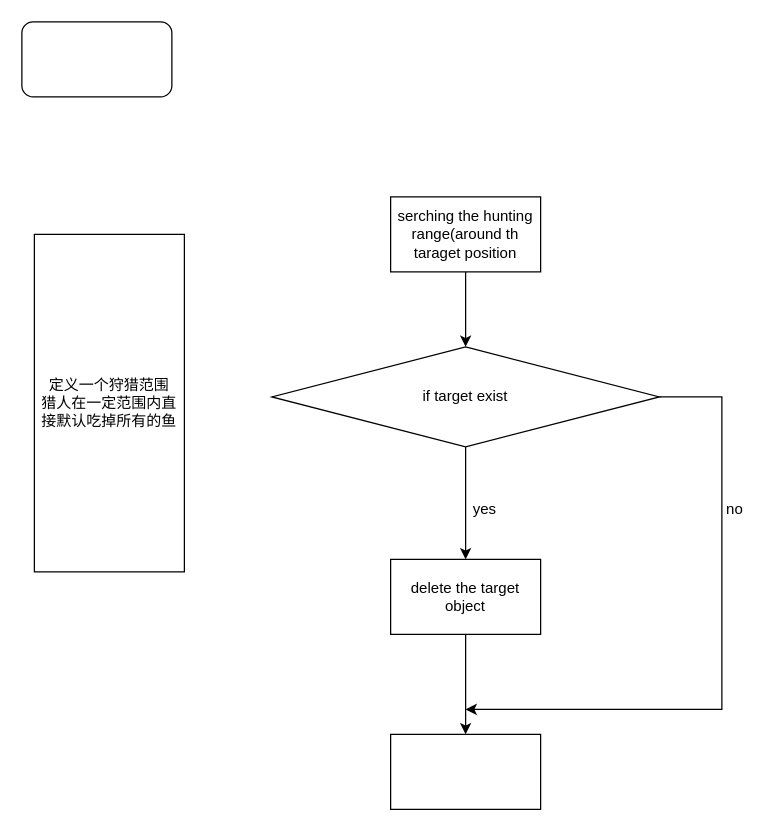
Some shapes in this 775 by 831 pixel diagram are drawn without their labels. The centre of each missing label's shape, as x and y in pixels:
"change the position of hunting object" belongs at point 465,771.
"movement" belongs at point 96,59.
